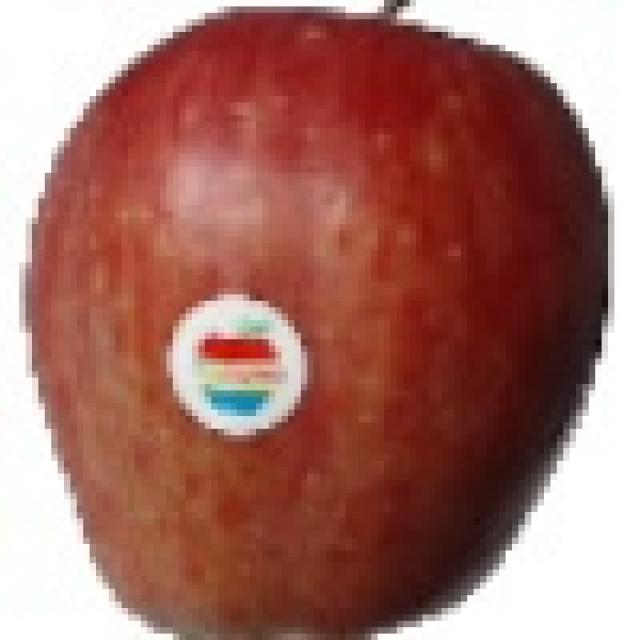apple: (25, 17, 608, 634)
